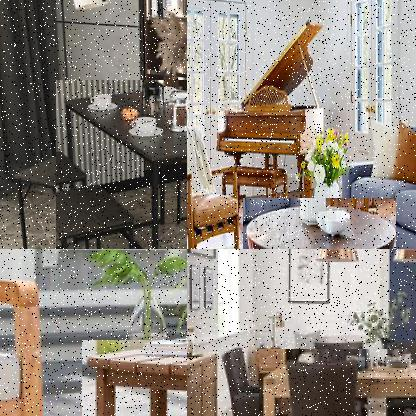table: (56, 80, 186, 248), (259, 348, 415, 415), (82, 340, 186, 415), (243, 198, 397, 248)
